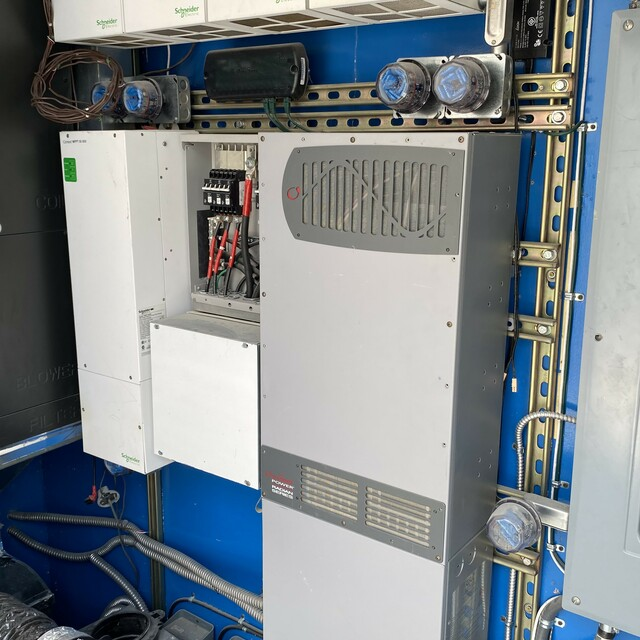inverter: (251, 124, 526, 640)
